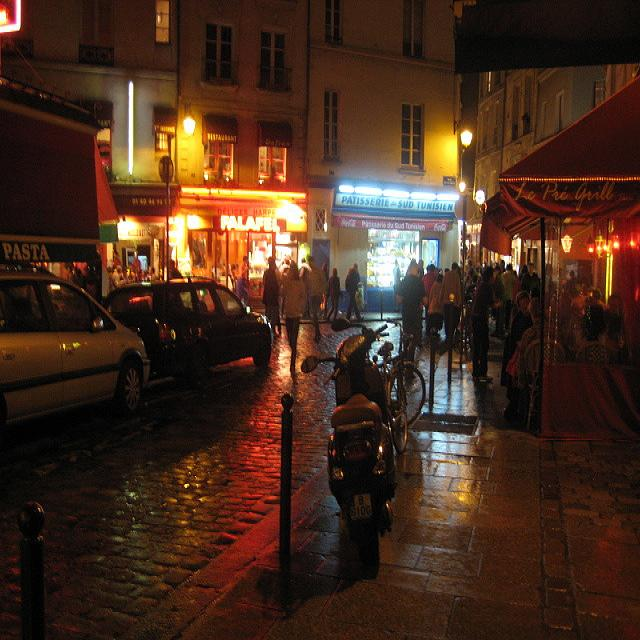Motorbike: (315, 321, 413, 570)
